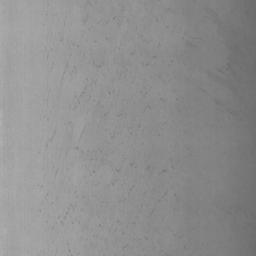Silk spot: (74, 86, 87, 109)
